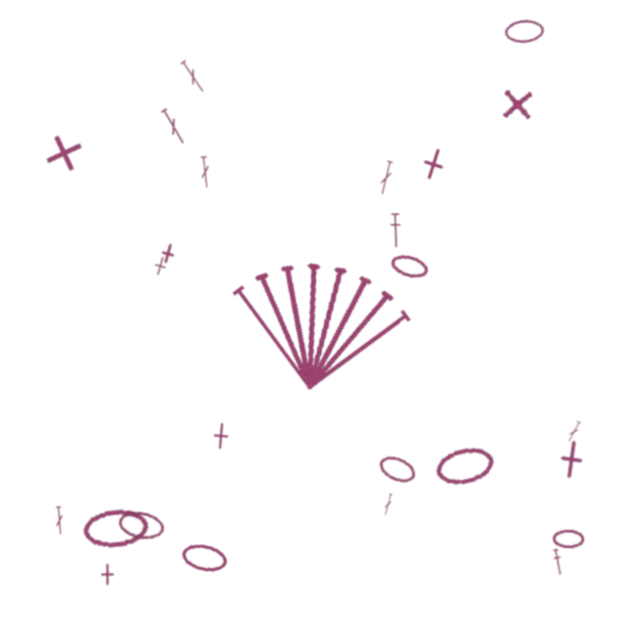chain: (81, 506, 151, 551), (432, 442, 498, 489), (179, 540, 229, 576), (116, 508, 166, 542), (375, 451, 419, 487), (388, 251, 430, 282), (504, 18, 545, 44), (552, 529, 585, 549)
double: (158, 106, 189, 147), (178, 58, 208, 95), (377, 160, 395, 196), (198, 156, 212, 188), (565, 420, 582, 444), (54, 506, 65, 535), (382, 493, 394, 516)
fan: (214, 234, 425, 405)
half_double: (388, 213, 403, 248), (551, 548, 565, 576)
single: (38, 127, 89, 178), (549, 437, 594, 482), (412, 143, 454, 185), (498, 85, 536, 123), (206, 421, 236, 451), (154, 240, 181, 267), (148, 254, 172, 278), (96, 563, 119, 586)
